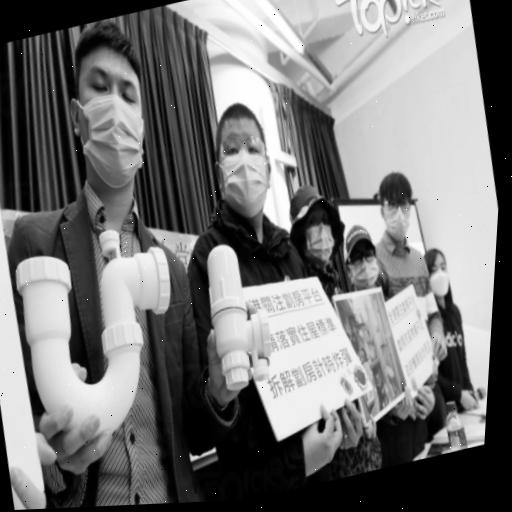mask: (44, 10, 173, 205), (193, 87, 290, 232), (275, 169, 356, 277), (366, 159, 428, 250), (335, 214, 390, 296), (415, 238, 459, 307)
